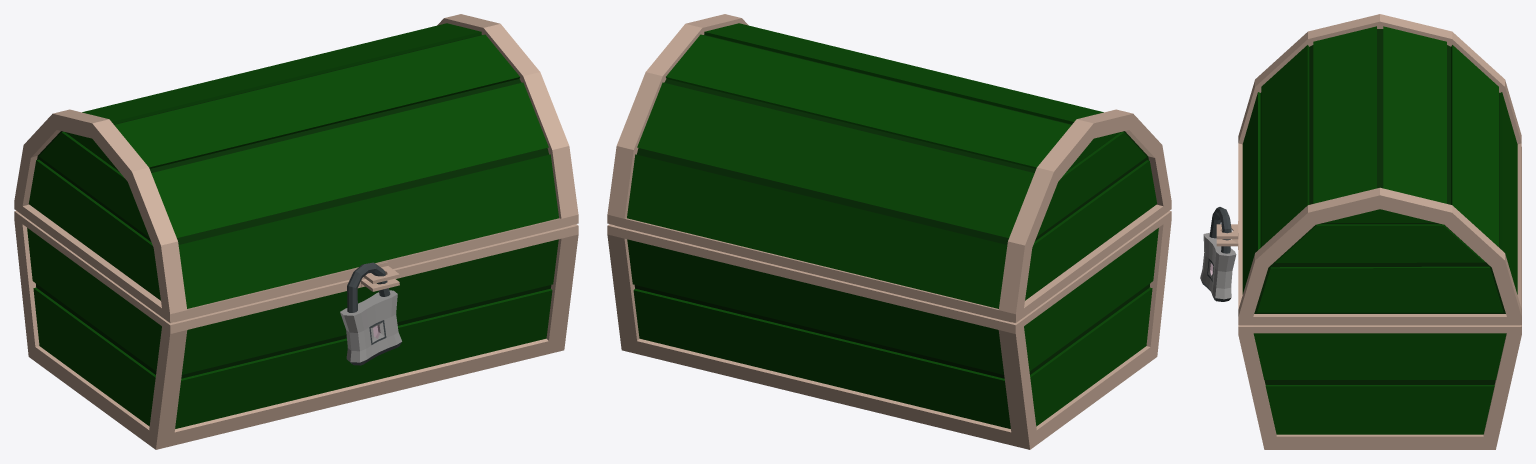
Rendered from ChestV1.glb.
3 views of the same model, side by side, from view 1: azimuth 30°, elevation 25°; view 2: azimuth 150°, elevation 25°; view 3: azimuth 270°, elevation 25° (orthographic). The views are drawn at different scales.
Parts seen in each view (by area): view 1: ChestV1_Top, ChestV1, ChestV1_Lock; view 2: ChestV1_Top, ChestV1; view 3: ChestV1_Top, ChestV1, ChestV1_Lock.
Boxes of the visible parts, bbox=[...] form: ChestV1_Top: bbox=[14, 14, 578, 322]; ChestV1: bbox=[14, 210, 578, 449]; ChestV1_Lock: bbox=[340, 262, 402, 365]; ChestV1_Top: bbox=[607, 14, 1171, 322]; ChestV1: bbox=[607, 210, 1171, 449]; ChestV1_Top: bbox=[1216, 14, 1521, 325]; ChestV1: bbox=[1216, 147, 1521, 449]; ChestV1_Lock: bbox=[1200, 207, 1236, 301].
Bounding box in the file's own units: 74.32 × 48.69 × 55.74.
Materials: 1 (1 with a texture image).
